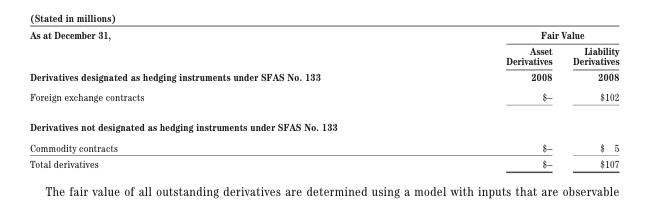table: (29, 28, 618, 169)
table column: (29, 28, 412, 169), (412, 28, 561, 169), (561, 28, 618, 169)
table column header: (29, 28, 618, 86)
table projected row header: (29, 111, 618, 136)
table row: (29, 42, 618, 86), (29, 86, 618, 111), (29, 111, 618, 136), (29, 136, 618, 155), (29, 28, 618, 42), (29, 155, 618, 169)
table spanning cell: (29, 28, 412, 86), (412, 28, 618, 42)
